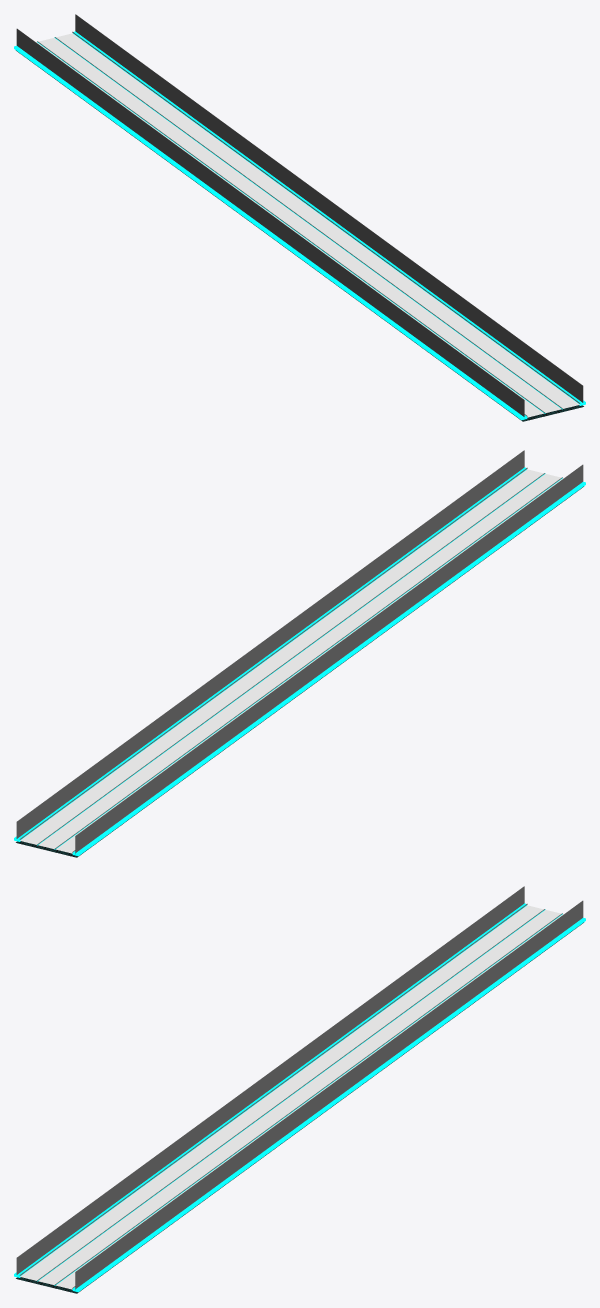
The model's file is track1.glb.
3 renders of one model, top to bottom at view 1: azimuth 30°, elevation 25°; view 2: azimuth 150°, elevation 25°; view 3: azimuth 330°, elevation 25°, orthographic.
Parts seen in each view (by area): view 1: ground_merged, ground; view 2: ground_merged, ground; view 3: ground_merged, ground.
Boxes of the visible parts, x1,y1,x2,y2 form: ground_merged: [14, 14, 585, 421]; ground: [36, 33, 579, 417]; ground_merged: [14, 450, 585, 857]; ground: [20, 469, 563, 853]; ground_merged: [14, 886, 585, 1293]; ground: [20, 905, 563, 1289].
Bounding box in the file's own units: 11 × 3.5 × 150.
Materials: 5 (1 with a texture image).
